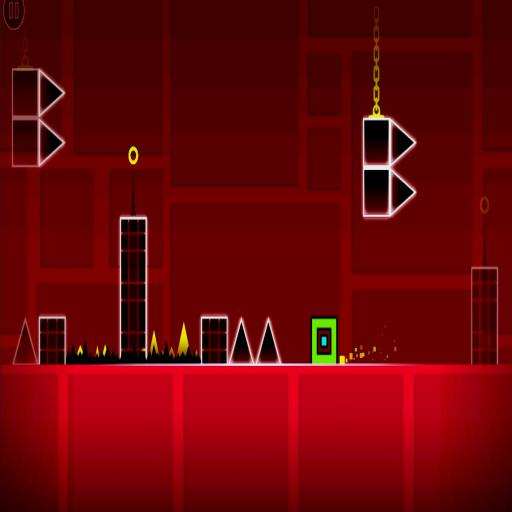block: (116, 213, 150, 364), (358, 114, 394, 224), (466, 263, 502, 372), (10, 62, 40, 174), (197, 312, 229, 370), (38, 312, 68, 368)
player: (312, 317, 337, 366)
spike: (38, 120, 63, 166), (38, 70, 63, 115), (389, 170, 414, 214), (389, 120, 414, 164), (228, 319, 252, 363), (13, 319, 36, 363), (256, 319, 279, 363), (177, 322, 187, 356), (149, 331, 157, 355), (67, 345, 74, 356), (83, 342, 88, 357), (76, 345, 82, 355), (163, 342, 168, 353), (168, 348, 173, 359), (111, 351, 116, 359), (95, 346, 98, 358), (102, 345, 105, 357), (194, 350, 198, 358), (160, 351, 163, 355)
